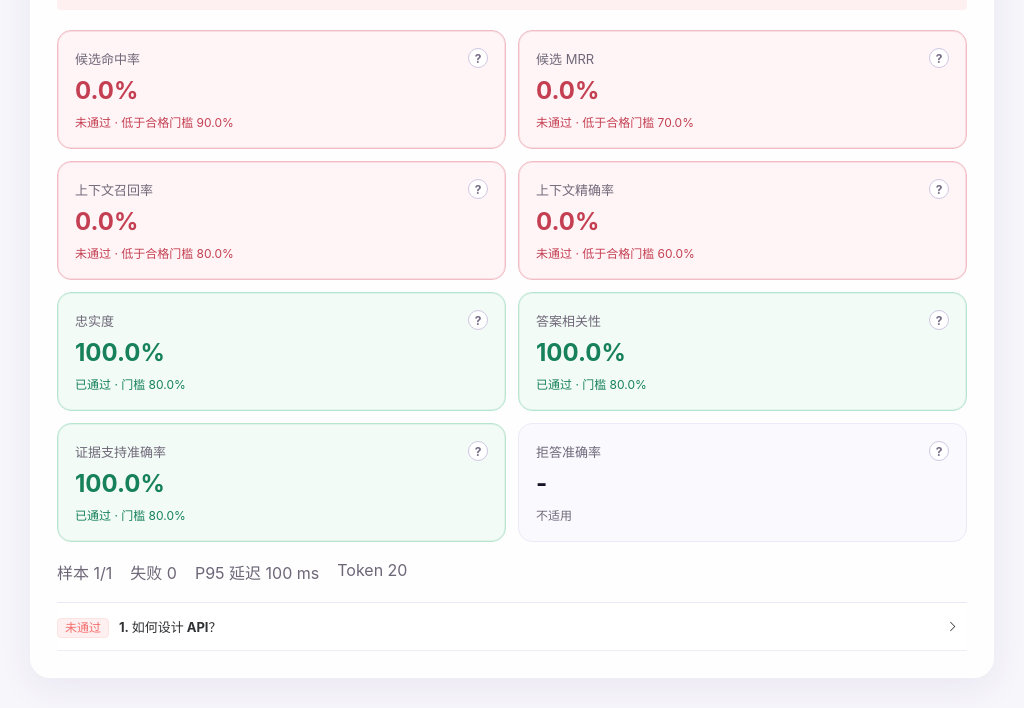
Test: RAG 评估页面 › 逐题结果展示全部评估指标、Token 和延迟
(page scrolled)
What coordinates should you click on to do the following:
click the button "未通过 1. 如何设计 API？"
I would click on:
 (83, 628)
Its box is [57,603,967,651].
(page scrolled)
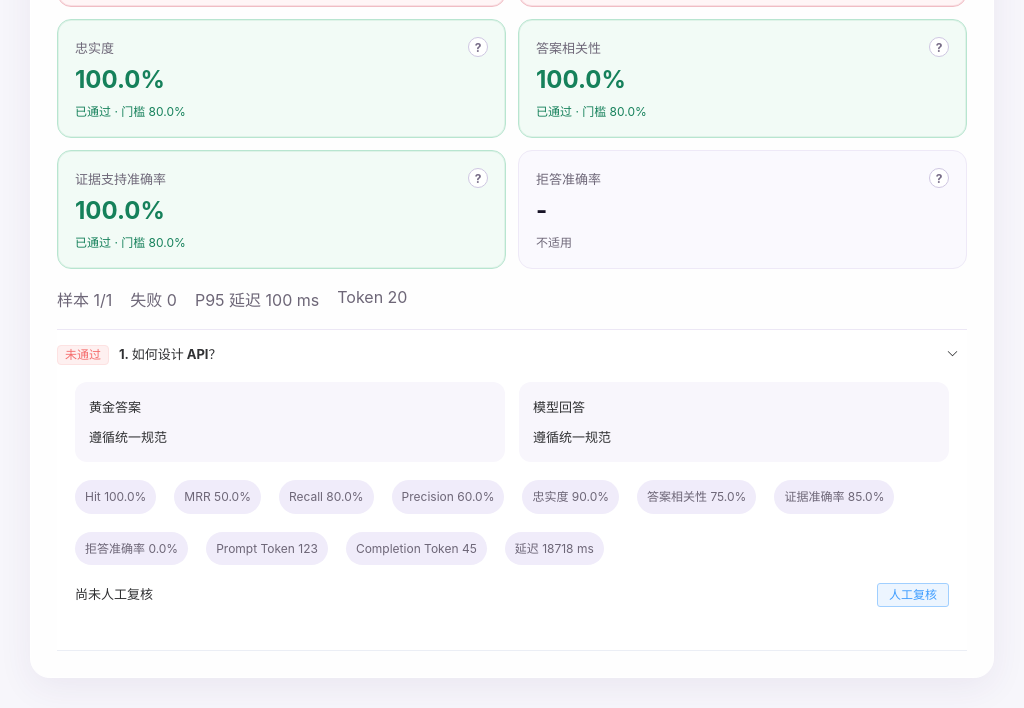
expect the element with class "case-score-row" shows "Hit 100.0%": met, box [85,489,146,504]
expect the element with class "case-score-row" shows "MRR 50.0%": met, box [184,489,251,504]
expect the element with class "case-score-row" shows "Recall 80.0%": met, box [289,489,364,504]
